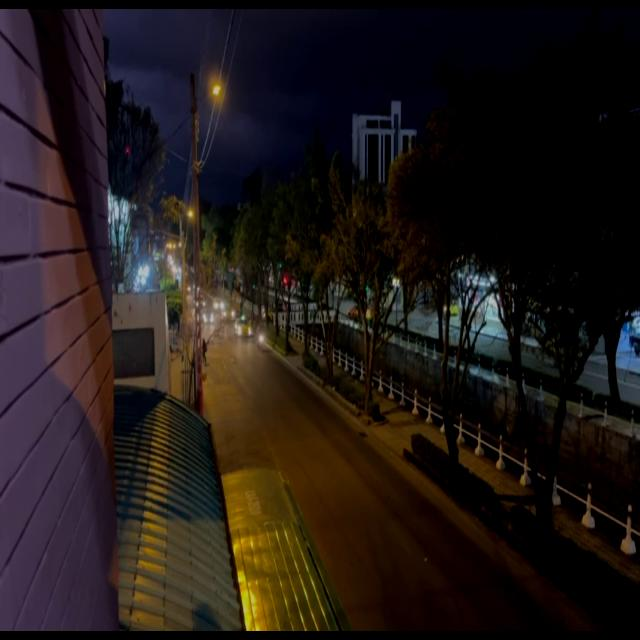SED: (236, 318, 251, 338)
